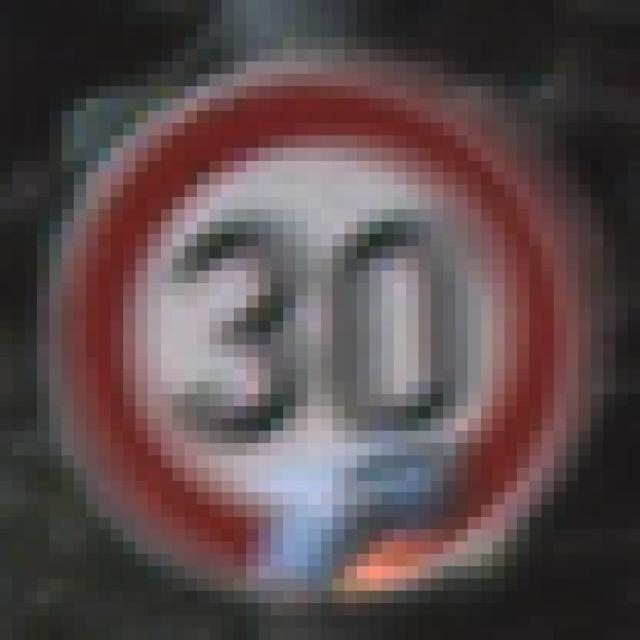Speed Limit 30 KMPh: (25, 37, 628, 628)
